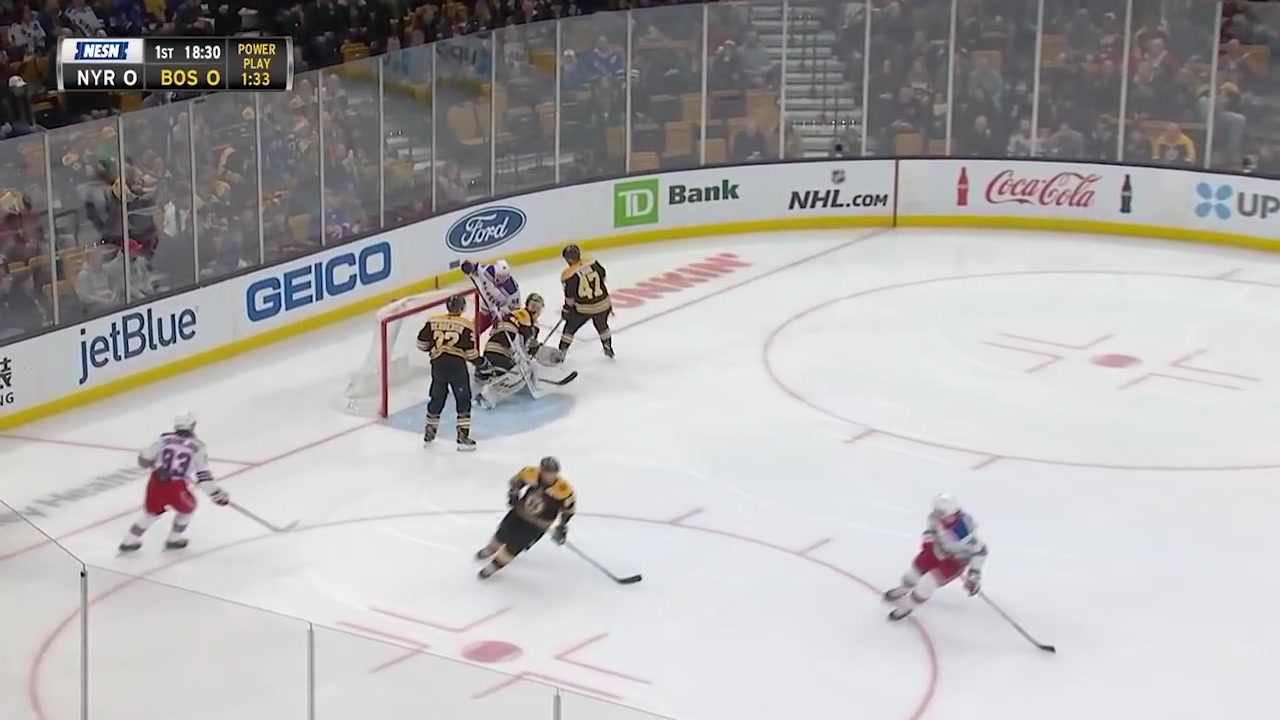Geico: (243, 236, 396, 333)
